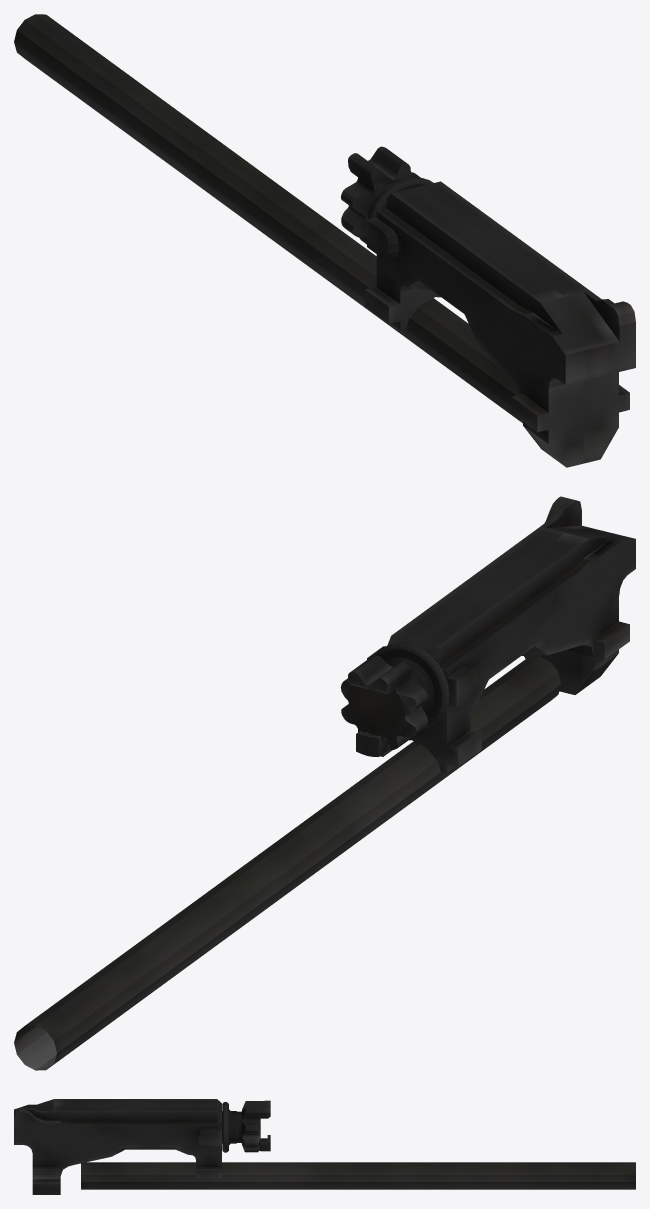
3 views of the same model, one above another, from view 1: azimuth 30°, elevation 25°; view 2: azimuth 150°, elevation 25°; view 3: azimuth 270°, elevation 25° (orthographic). The views are drawn at different scales.
Parts seen in each view (by area): view 1: TW_5dcbd56fdbd3d91b3e5468d5_PZ_Import; view 2: TW_5dcbd56fdbd3d91b3e5468d5_PZ_Import; view 3: TW_5dcbd56fdbd3d91b3e5468d5_PZ_Import.
Boxes of the visible parts, x1=… form: TW_5dcbd56fdbd3d91b3e5468d5_PZ_Import: x1=14, y1=14, x2=635, y2=467; TW_5dcbd56fdbd3d91b3e5468d5_PZ_Import: x1=14, y1=496, x2=635, y2=1070; TW_5dcbd56fdbd3d91b3e5468d5_PZ_Import: x1=14, y1=1099, x2=635, y2=1194.
Bounding box in the file's own units: 0.0143 × 0.1509 × 0.0234.
Materials: 1 (1 with a texture image).
